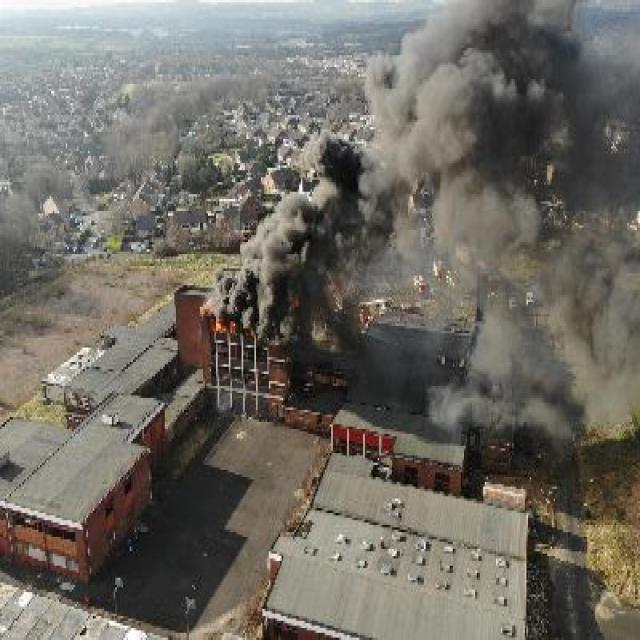Fire: (206, 310, 250, 346)
Smoke: (366, 23, 635, 241), (461, 253, 640, 467), (216, 150, 382, 330), (389, 140, 392, 142)
